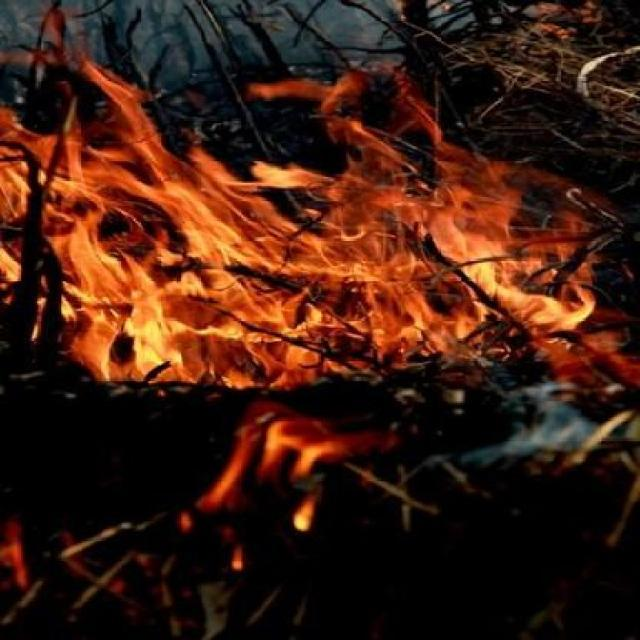Fire: (6, 12, 634, 400), (172, 414, 380, 572), (0, 503, 28, 589)
